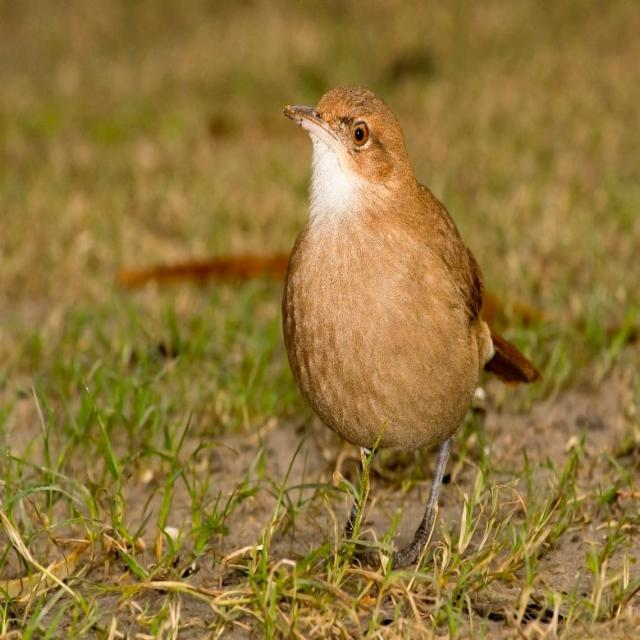bird: (270, 72, 532, 570)
